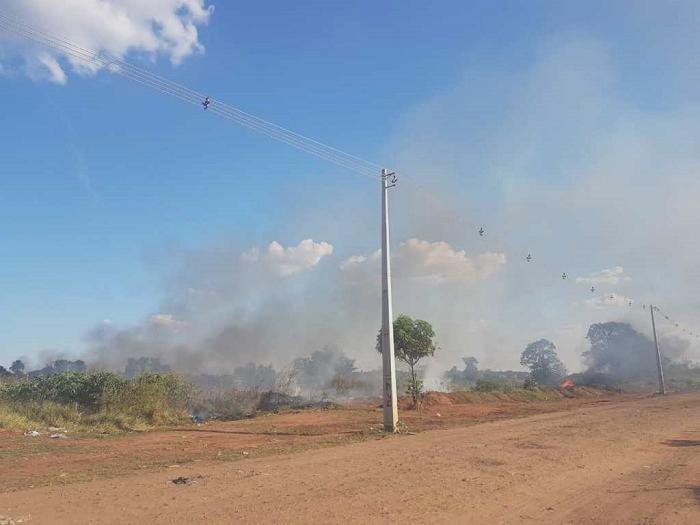Fire: (561, 380, 576, 391)
